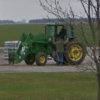Tractor: (15, 12, 93, 67)
